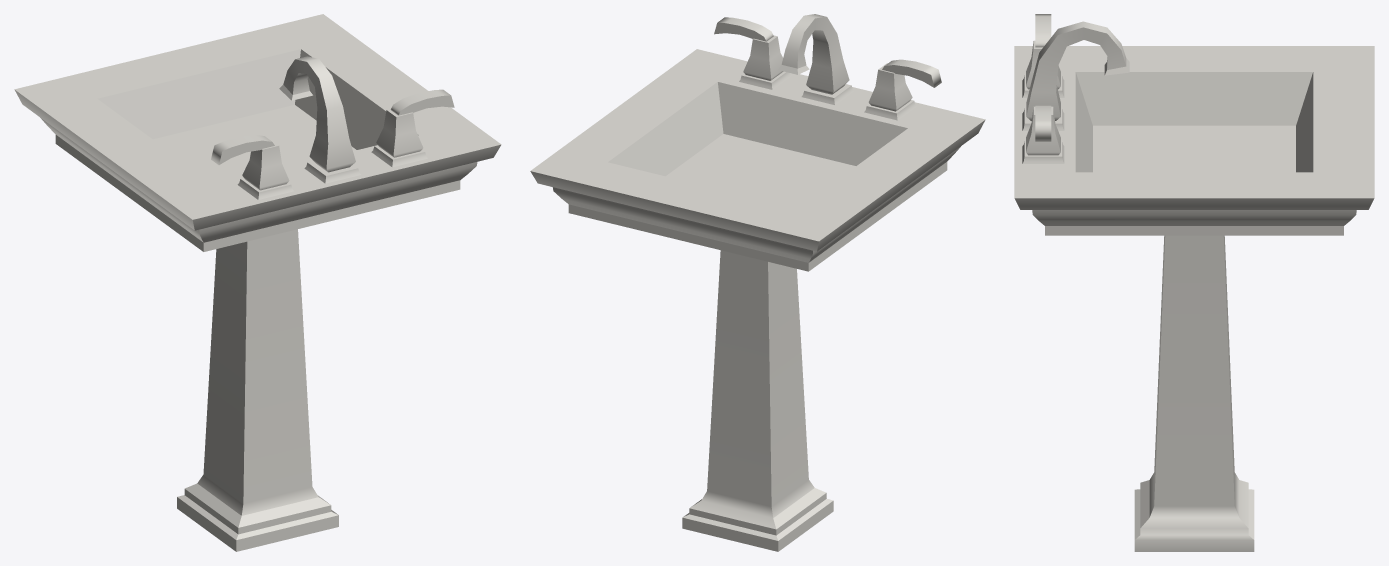
The model's file is bath1.glb.
3 renders of one model, left to right at view 1: azimuth 30°, elevation 25°; view 2: azimuth 150°, elevation 25°; view 3: azimuth 270°, elevation 25°, orthographic. The views are drawn at different scales.
Visible parts, largest first — view 1: node_id286, node_id288; view 2: node_id286, node_id288; view 3: node_id286, node_id288.
Part boxes in pixels (<box>): node_id286: <box>14,14,501,551</box>; node_id288: <box>211,56,454,199</box>; node_id286: <box>530,49,985,551</box>; node_id288: <box>714,14,941,120</box>; node_id286: <box>1014,46,1374,551</box>; node_id288: <box>1022,14,1129,163</box>.
Bounding box in the file's own units: 0.3326 × 0.512 × 0.3326.
2 materials, 2 textured.
